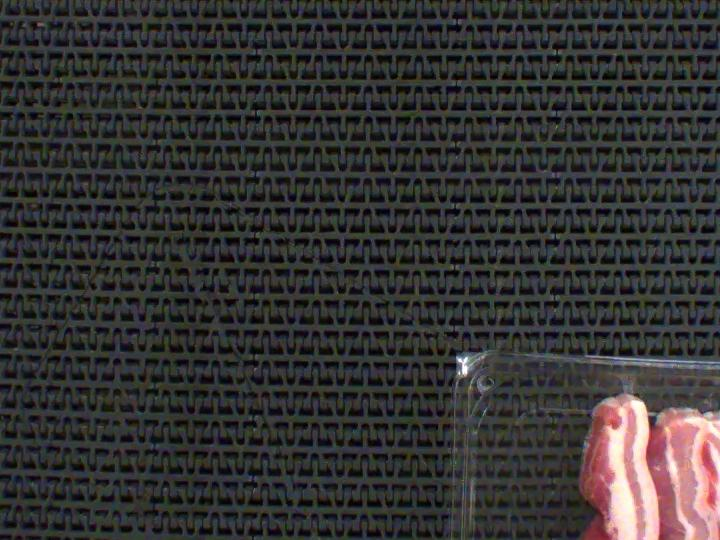packaging-error: (611, 366, 640, 397)
